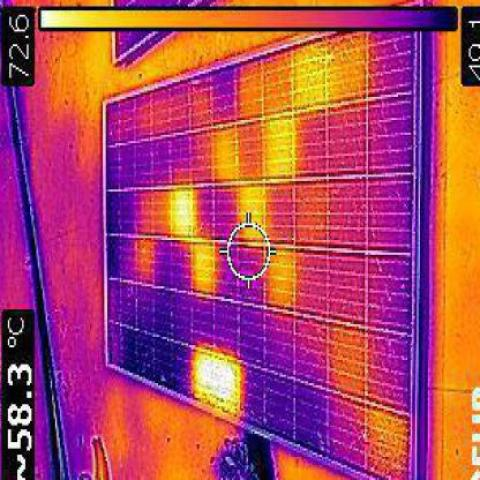fault: (194, 348, 238, 407), (264, 116, 298, 172), (295, 49, 322, 102), (169, 188, 194, 234)
